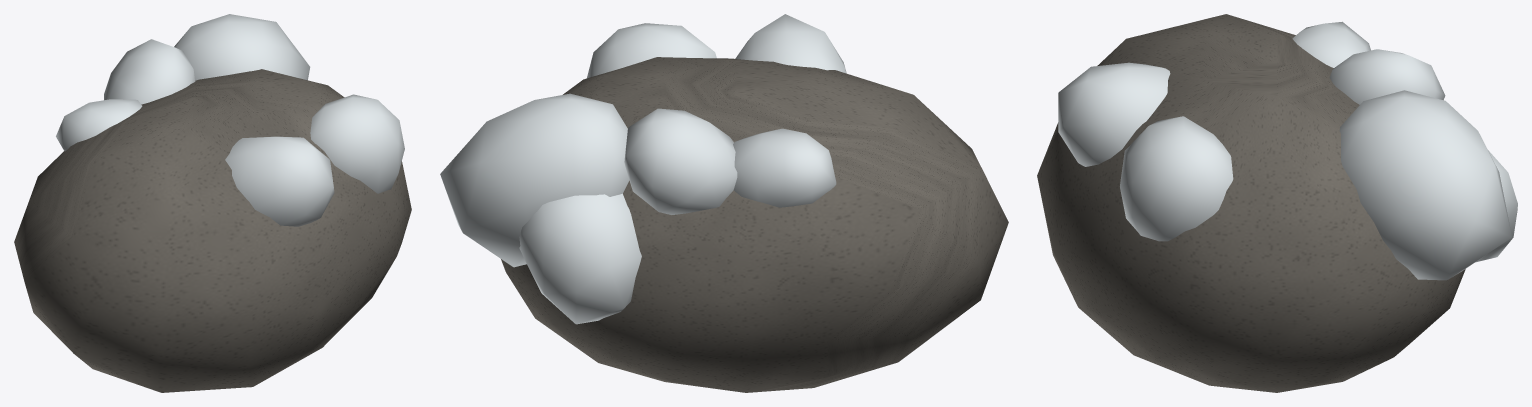
File: ore_platinum.glb
The picture shows the model from 3 angles, left to right: view 1: azimuth 30°, elevation 25°; view 2: azimuth 150°, elevation 25°; view 3: azimuth 270°, elevation 25°; orthographic projection. The views are drawn at different scales.
Parts seen in each view (by area): view 1: ore_platinum; view 2: ore_platinum; view 3: ore_platinum.
Boxes of the visible parts, x1=… form: ore_platinum: x1=14, y1=14, x2=411, y2=392; ore_platinum: x1=440, y1=14, x2=1008, y2=392; ore_platinum: x1=1037, y1=14, x2=1517, y2=392.
Bounding box in the file's own units: 0.1913 × 0.1276 × 0.1781.
2 materials, 1 textured.
